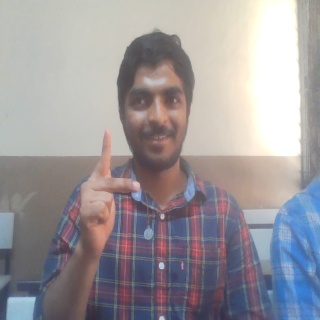Okay: (76, 127, 142, 261)
